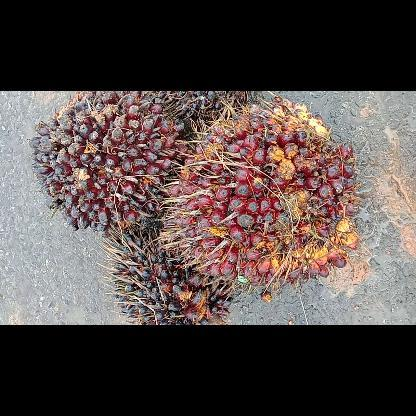Kurang masak: (29, 91, 185, 233)
TBS abnormal: (114, 234, 230, 324), (153, 90, 251, 124)
TBS masak: (167, 92, 359, 292)
